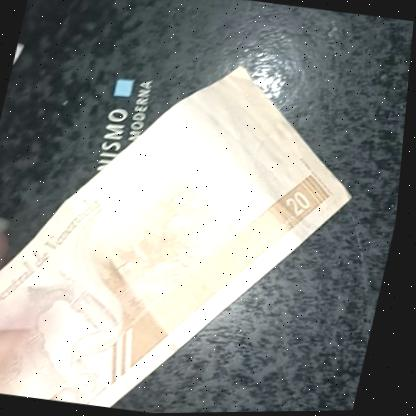twenty-back-vef: (0, 29, 395, 416)
